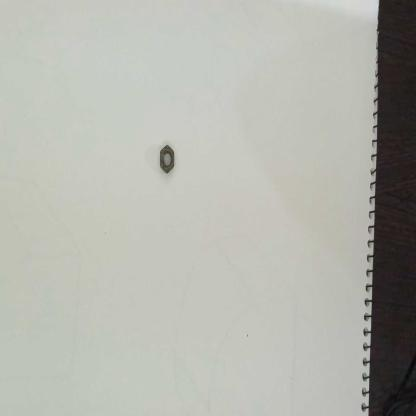NUTS: (156, 141, 177, 180)
